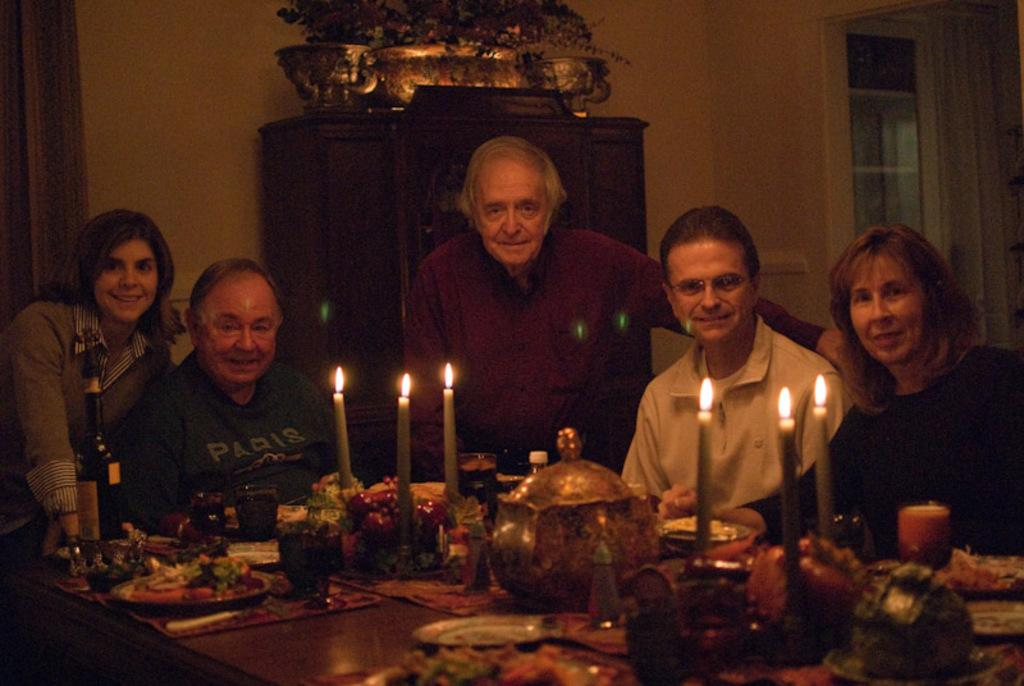Sem Máscara: (843, 249, 926, 356), (193, 267, 273, 378), (670, 236, 751, 341), (477, 153, 551, 264), (90, 234, 161, 324)
